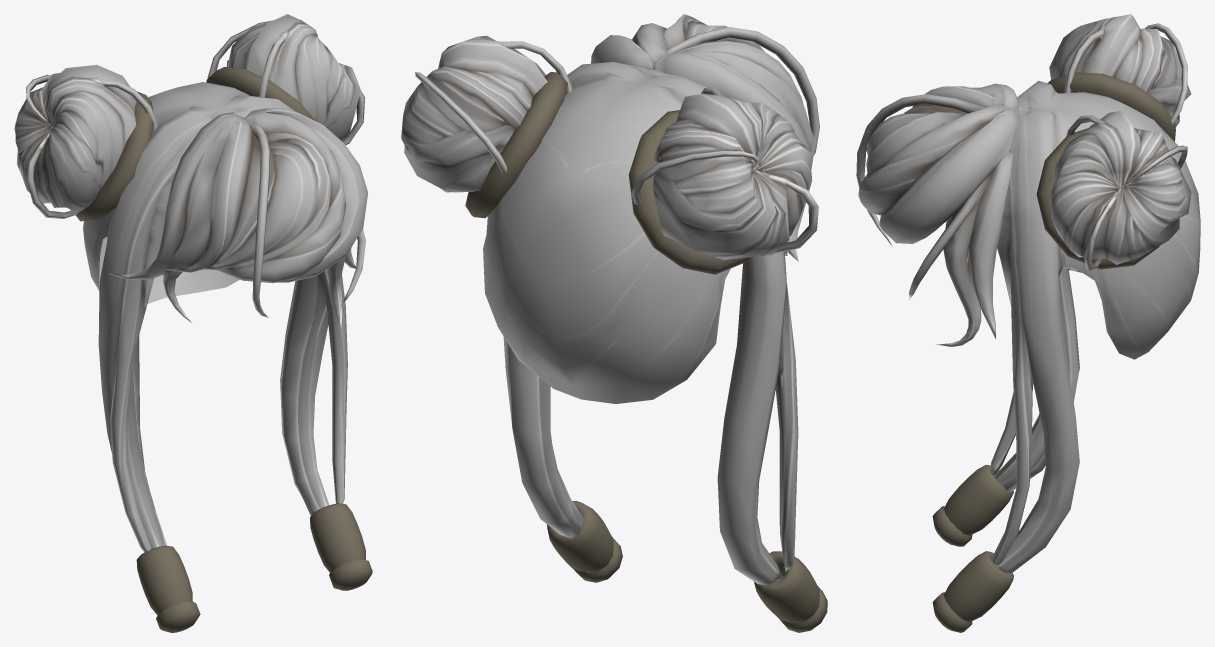
File: hair7.fbx
3 views of the same model, side by side, from view 1: azimuth 30°, elevation 25°; view 2: azimuth 150°, elevation 25°; view 3: azimuth 270°, elevation 25° (orthographic). The views are drawn at different scales.
Visible parts, largest first — view 1: hair7; view 2: hair7; view 3: hair7.
Boxes of the visible parts, x1,y1,x2,y2 form: hair7: [14, 14, 372, 632]; hair7: [401, 14, 827, 632]; hair7: [856, 14, 1200, 632].
Size of the model in its own units: 25.48 by 36.56 by 21.98.
1 material, 1 textured.
